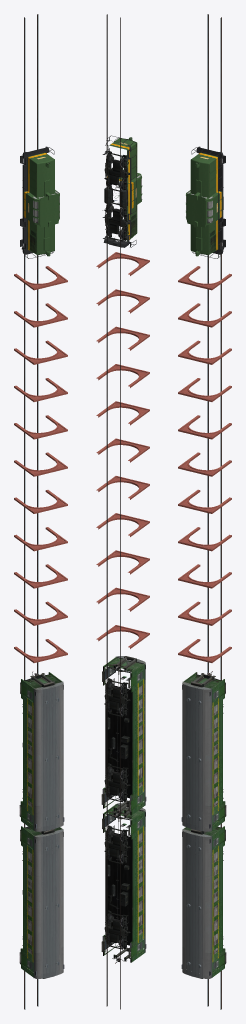
File: hct.gltf
The picture shows the model from 3 angles, left to right: view 1: azimuth 30°, elevation 25°; view 2: azimuth 150°, elevation 25°; view 3: azimuth 330°, elevation 25°; orthographic projection.
Parts seen in each view (by area): view 1: rail30; view 2: rail30; view 3: rail30.
Boxes of the visible parts, <box> form: rail30: <box>14,14,67,1009</box>; rail30: <box>96,14,149,1009</box>; rail30: <box>178,14,231,1009</box>.
Bounding box in the file's own units: 6.16 × 172 × 6.76.
Materials: 14 (14 with a texture image).
